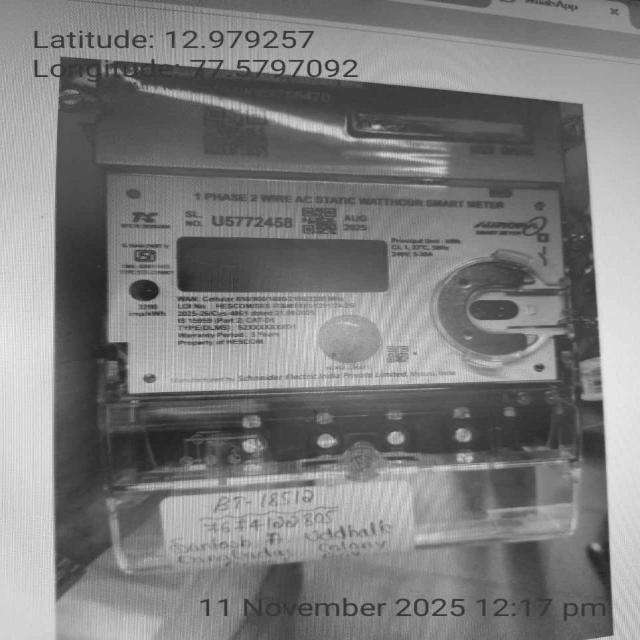meter: (102, 80, 573, 392)
